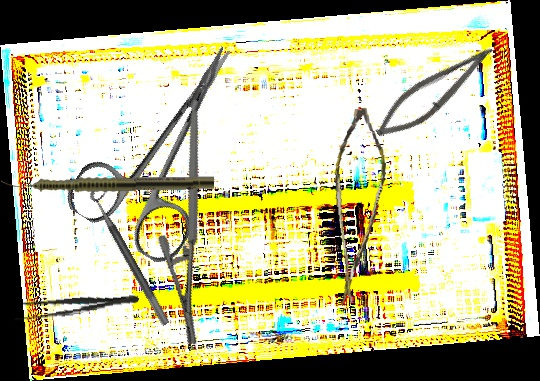Dressing Forceps: (13, 288, 140, 324)
Fixation Ring: (85, 178, 182, 327)
Handpiece: (0, 173, 215, 194)
Iris Scissors: (60, 18, 284, 270)
Micro Scissor: (316, 106, 403, 306), (367, 30, 501, 151)
Needle Holder: (115, 108, 273, 350)
